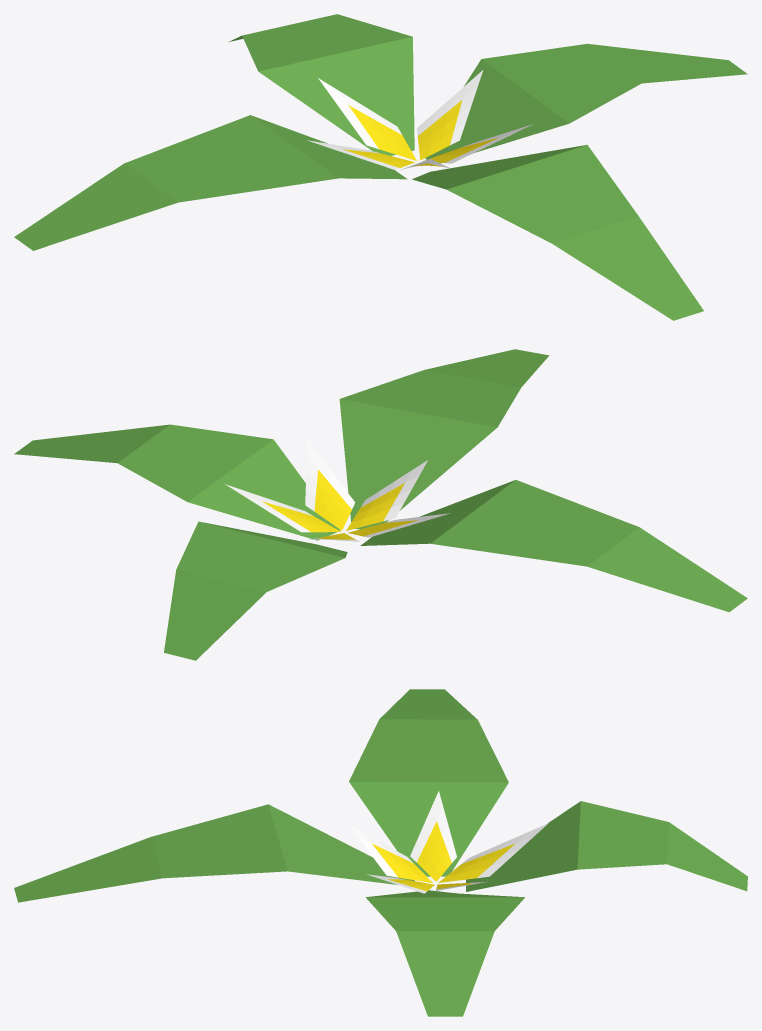
The model's file is Planta02.fbx.
3 views of the same model, one above another, from view 1: azimuth 30°, elevation 25°; view 2: azimuth 150°, elevation 25°; view 3: azimuth 270°, elevation 25° (orthographic). The views are drawn at different scales.
Visible parts, largest first — view 1: Plane.023; view 2: Plane.023; view 3: Plane.023.
Boxes of the visible parts, left/top/right/bottom form: Plane.023: left=14, top=14, right=747, bottom=320; Plane.023: left=14, top=349, right=747, bottom=660; Plane.023: left=14, top=689, right=747, bottom=1016.
Size of the model in its own units: 1380 by 108 by 1334.
